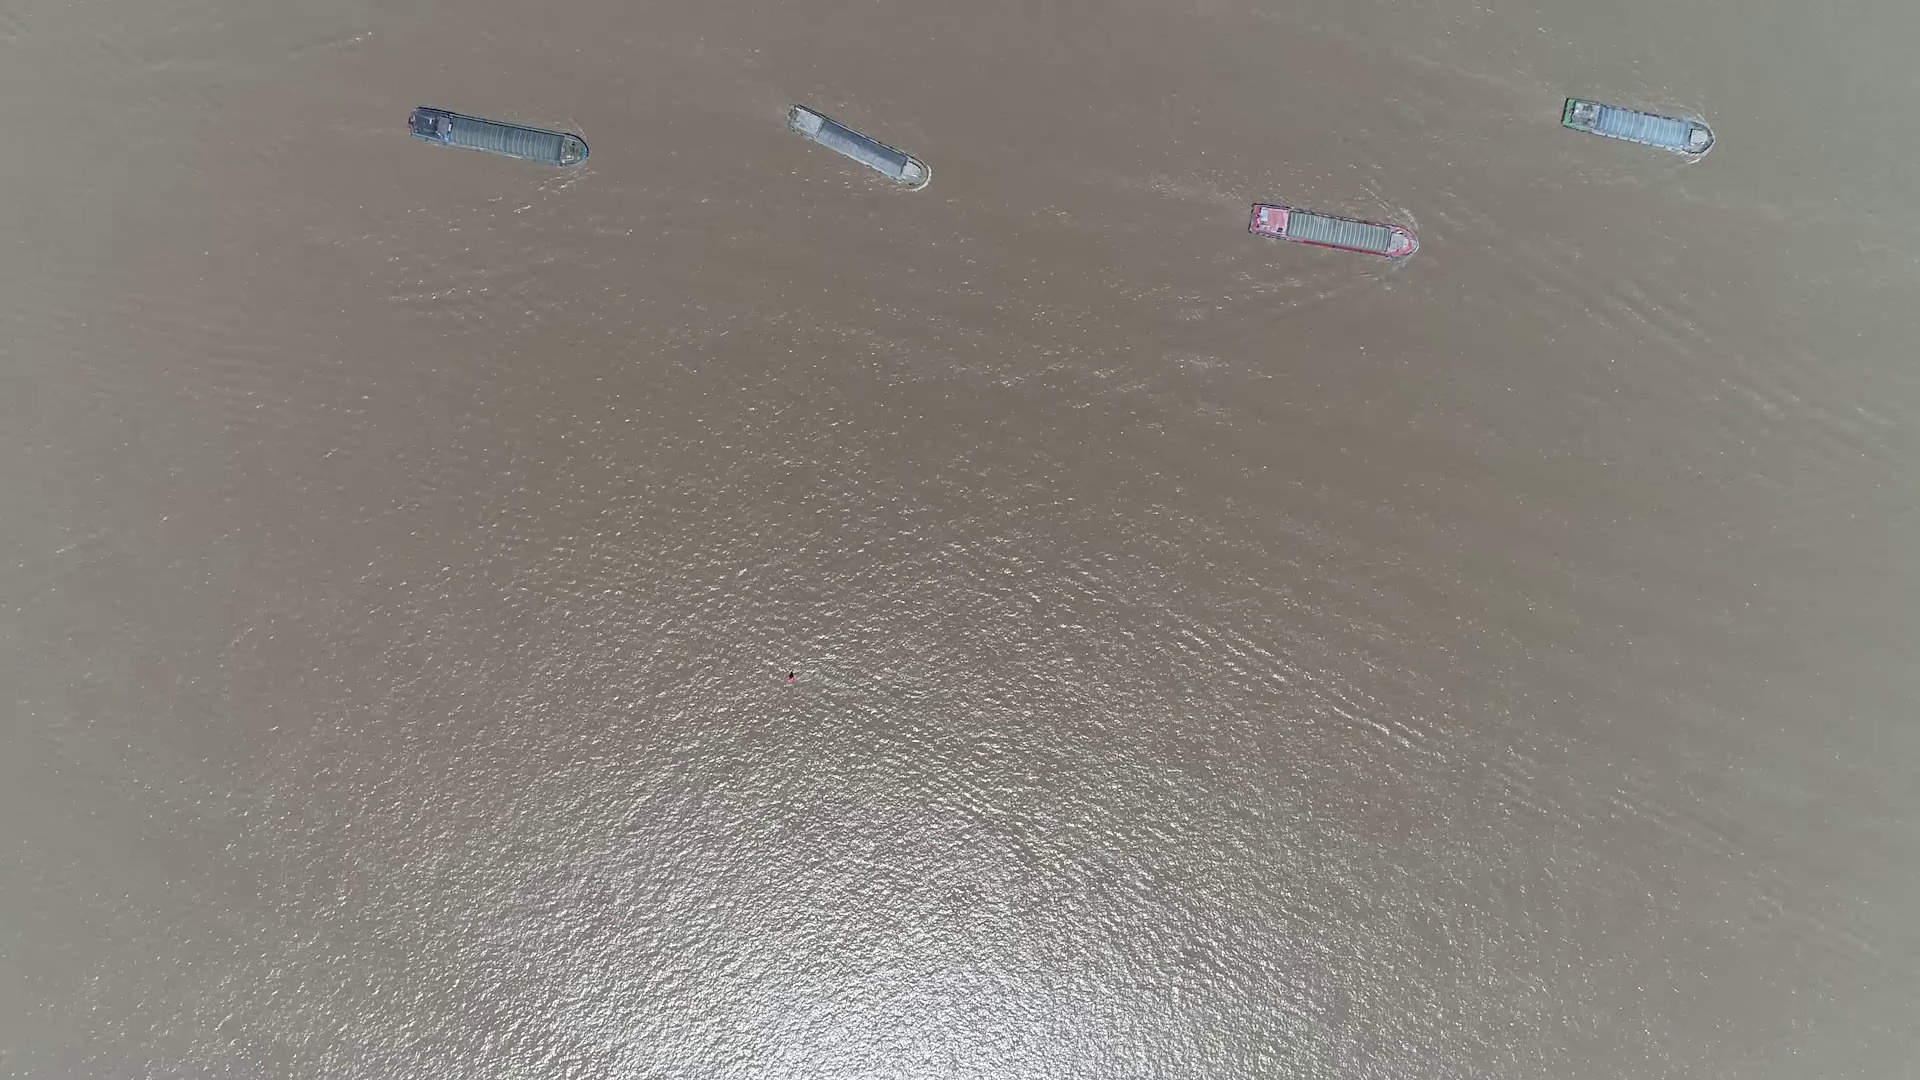ship: (789, 109, 930, 187), (407, 108, 588, 167), (1247, 204, 1418, 258), (1559, 102, 1712, 153)
